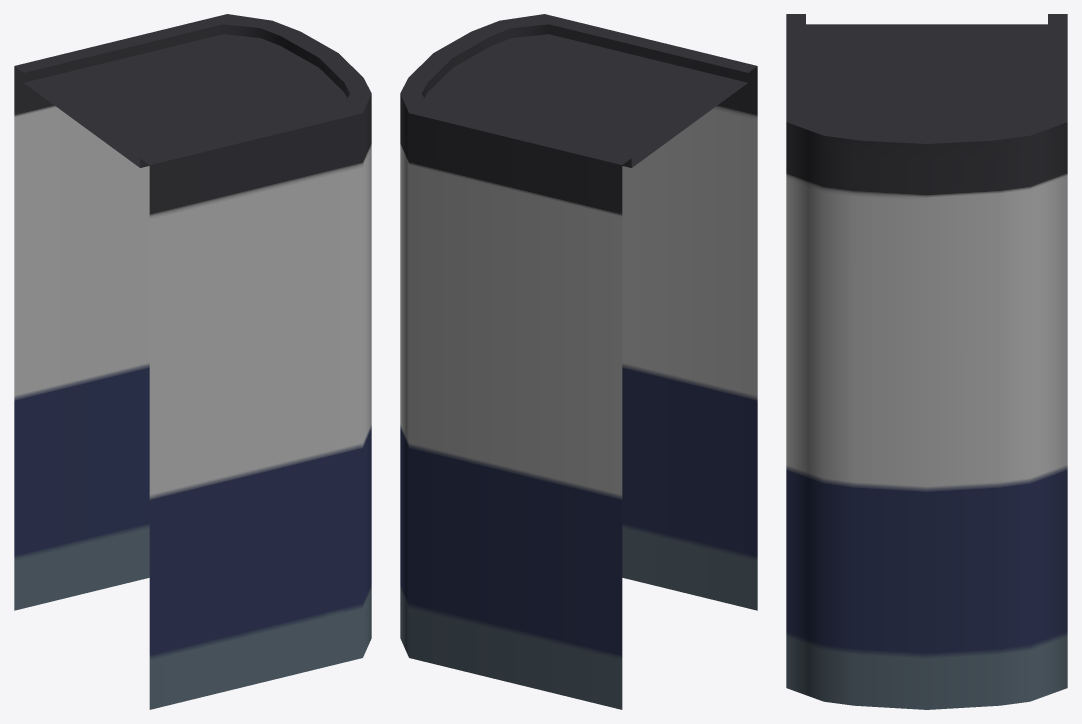
Rendered from Parede1Arredondada1.fbx.
3 views of the same model, side by side, from view 1: azimuth 30°, elevation 25°; view 2: azimuth 150°, elevation 25°; view 3: azimuth 270°, elevation 25° (orthographic). The views are drawn at different scales.
Visible parts, largest first — view 1: Parede1Arredondada1; view 2: Parede1Arredondada1; view 3: Parede1Arredondada1.
Part boxes in pixels (box(x1,y1,x2,y2)): Parede1Arredondada1: box(14, 14, 371, 709); Parede1Arredondada1: box(400, 14, 757, 709); Parede1Arredondada1: box(786, 14, 1067, 709).
Bounding box in the file's own units: 145 × 295 × 133.
